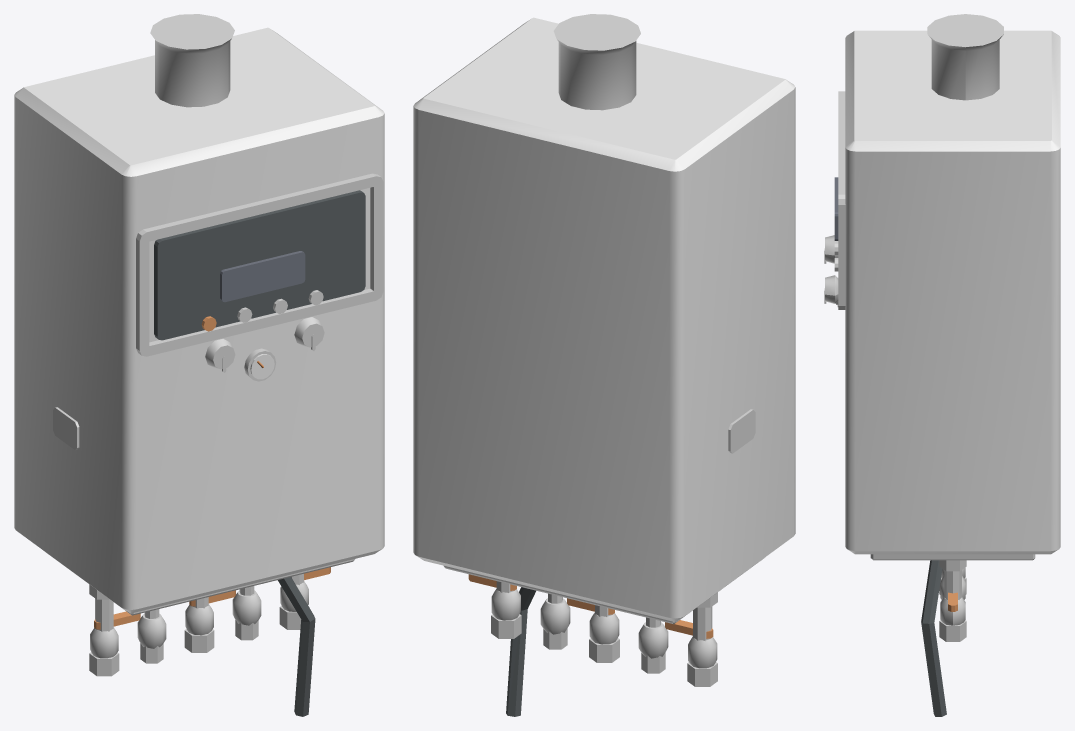
The model's file is boiler-combi.glb.
The picture shows the model from 3 angles, left to right: view 1: azimuth 30°, elevation 25°; view 2: azimuth 150°, elevation 25°; view 3: azimuth 270°, elevation 25°; orthographic projection. The views are drawn at different scales.
Visible parts, largest first — view 1: combi-boiler_0; view 2: combi-boiler_0; view 3: combi-boiler_0.
Part boxes in pixels (x1,y1,x2,y2): combi-boiler_0: (14, 14, 384, 716); combi-boiler_0: (413, 14, 795, 716); combi-boiler_0: (824, 14, 1060, 716).
Size of the model in its own units: 0.446 by 1.12 by 0.3735.
1 material, 1 textured.
